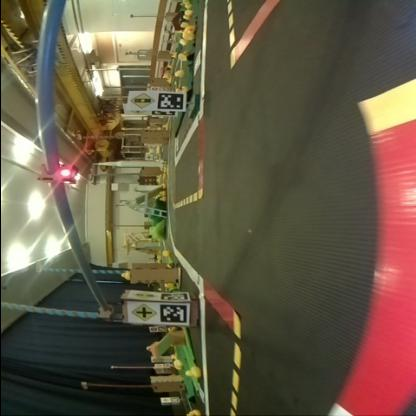Duckie: (184, 366, 198, 376), (182, 30, 192, 39), (178, 52, 188, 60), (172, 69, 182, 77), (174, 86, 186, 92), (184, 25, 194, 32), (119, 271, 127, 278), (162, 282, 171, 288), (160, 250, 168, 256)
Intersection sign: (127, 303, 157, 322)
QR code: (158, 304, 186, 322), (155, 92, 183, 110), (159, 292, 187, 298), (150, 110, 176, 116), (195, 384, 203, 402)
Signal sign: (127, 92, 154, 110), (130, 291, 157, 299)
Traffic light: (36, 164, 74, 184)
